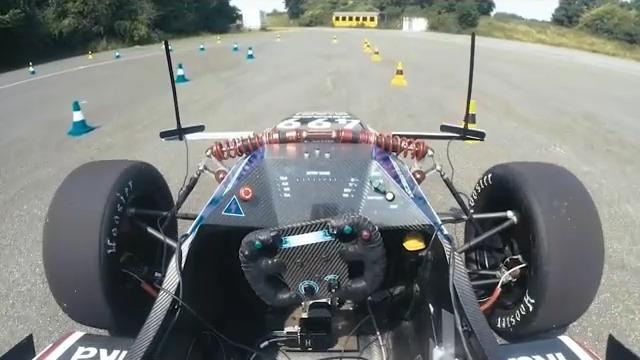blue_cone: (66, 100, 96, 138), (173, 62, 189, 84), (246, 46, 255, 60)
yellow_cone: (456, 97, 480, 142), (389, 61, 408, 87), (371, 47, 381, 62)
